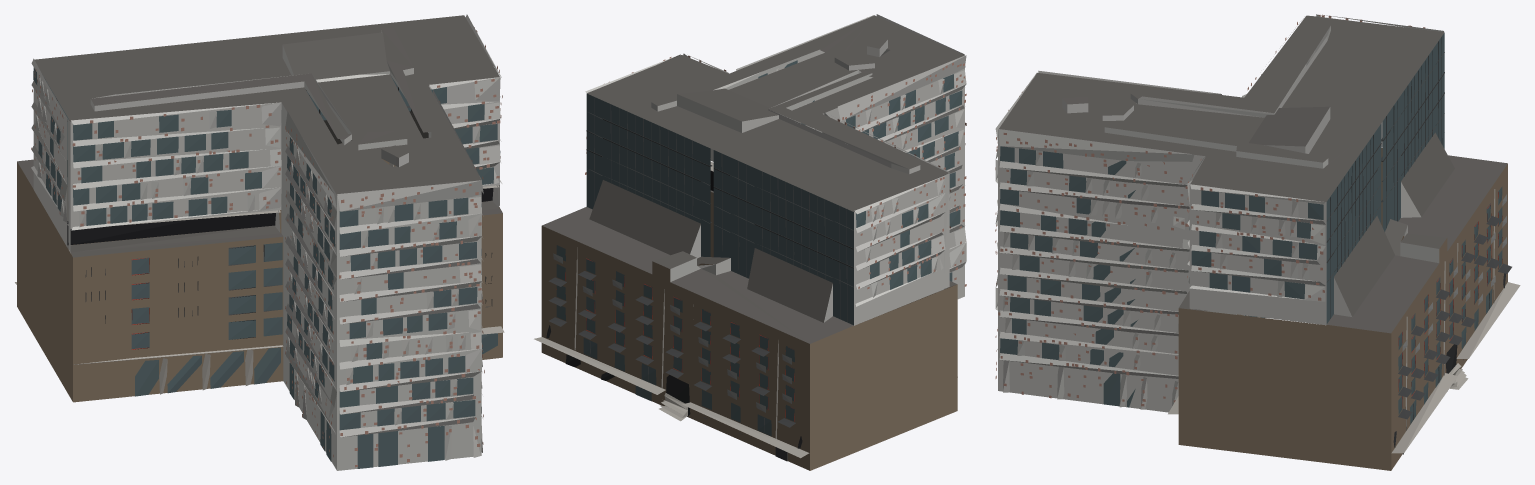
The model's file is pakhuis-afrika.lod1.glb.
3 views of the same model, side by side, from view 1: azimuth 30°, elevation 25°; view 2: azimuth 150°, elevation 25°; view 3: azimuth 270°, elevation 25° (orthographic). The views are drawn at different scales.
Visible parts, largest first — view 1: pakhuis-afrika; view 2: pakhuis-afrika; view 3: pakhuis-afrika.
Part boxes in pixels (x1,y1,x2,y2): pakhuis-afrika: (15, 14, 504, 470); pakhuis-afrika: (534, 14, 966, 470); pakhuis-afrika: (995, 14, 1520, 470).
Size of the model in its own units: 55.96 by 36.18 by 62.9.
